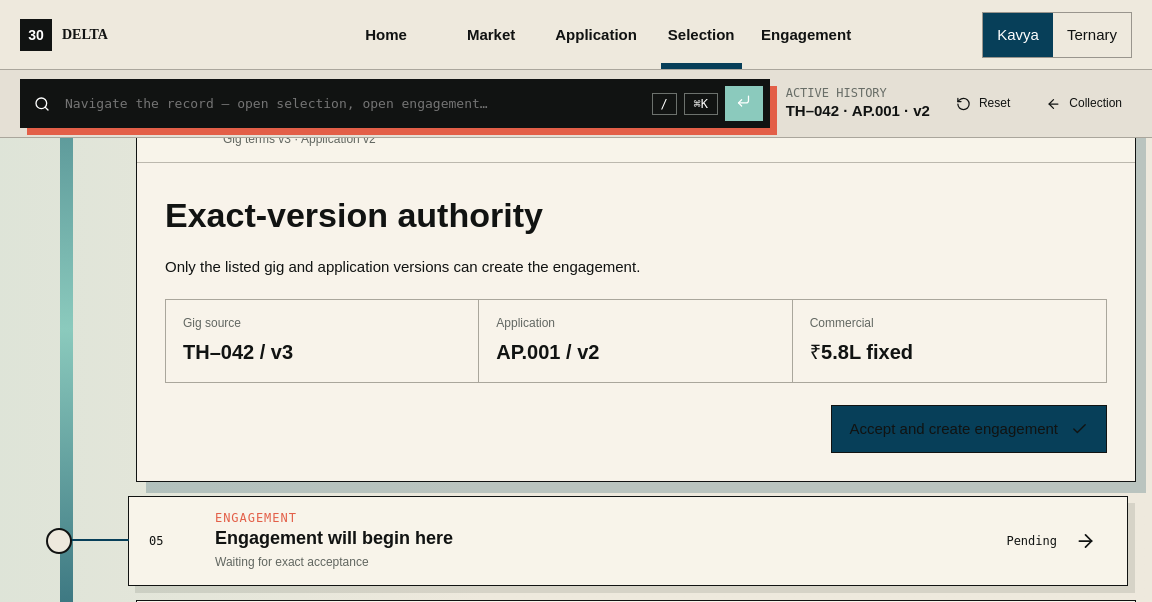
Scenario: Command × Current concept interactions › accepts Delta authority and preserves contact controls in work
(page scrolled)
Click the button "Accept and create engagement": click(969, 429) left=830, top=405, right=1107, bottom=453
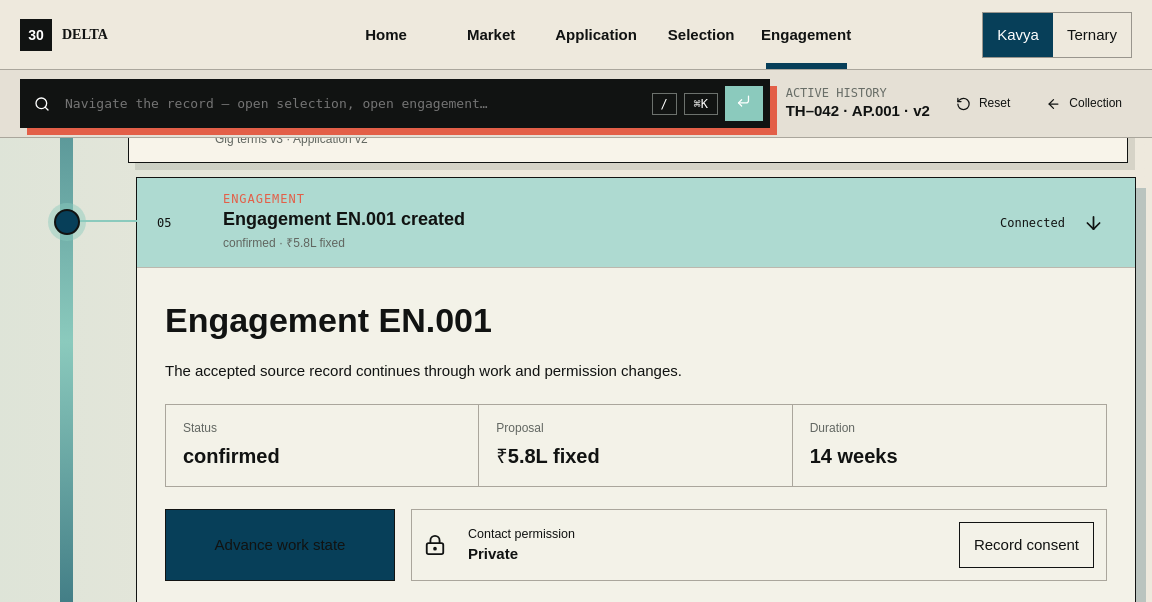
Click the button "Record consent": click(1026, 545) left=959, top=522, right=1094, bottom=568
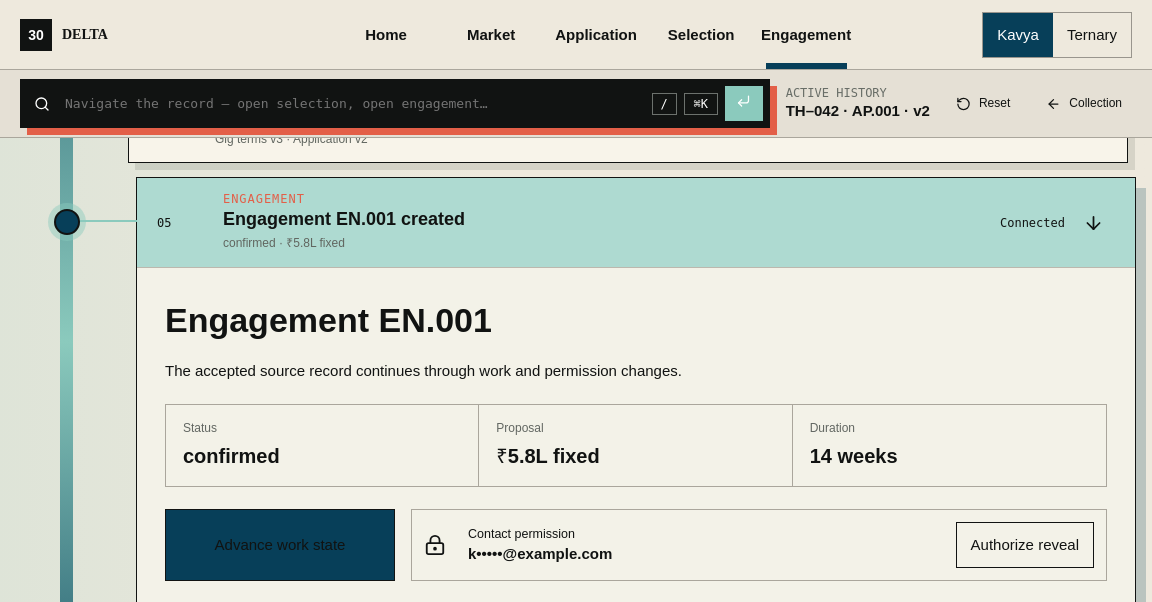
Expected: the button "Authorize reveal" is shown, left=956, top=522, right=1094, bottom=568
